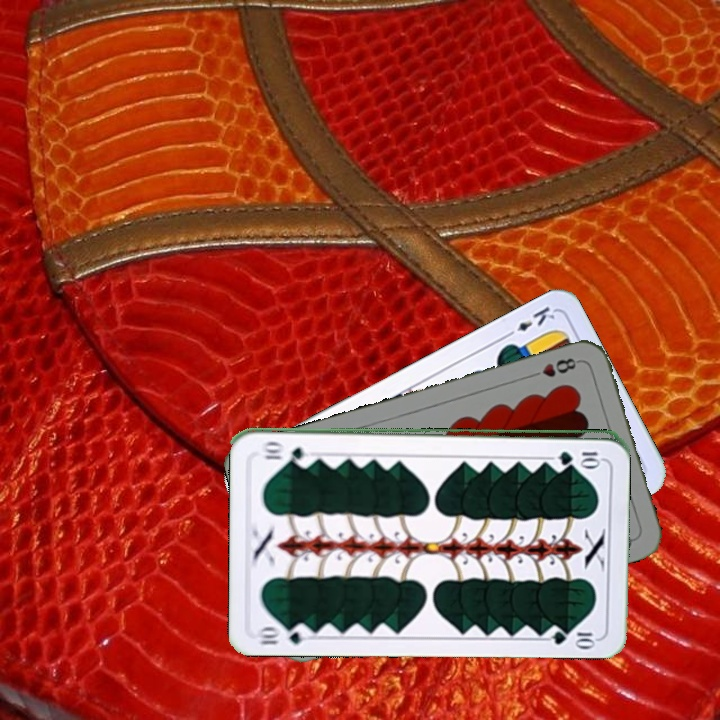EK: (501, 302, 558, 341)
G10: (256, 620, 312, 647), (554, 448, 604, 464)
H8: (525, 354, 582, 381)
